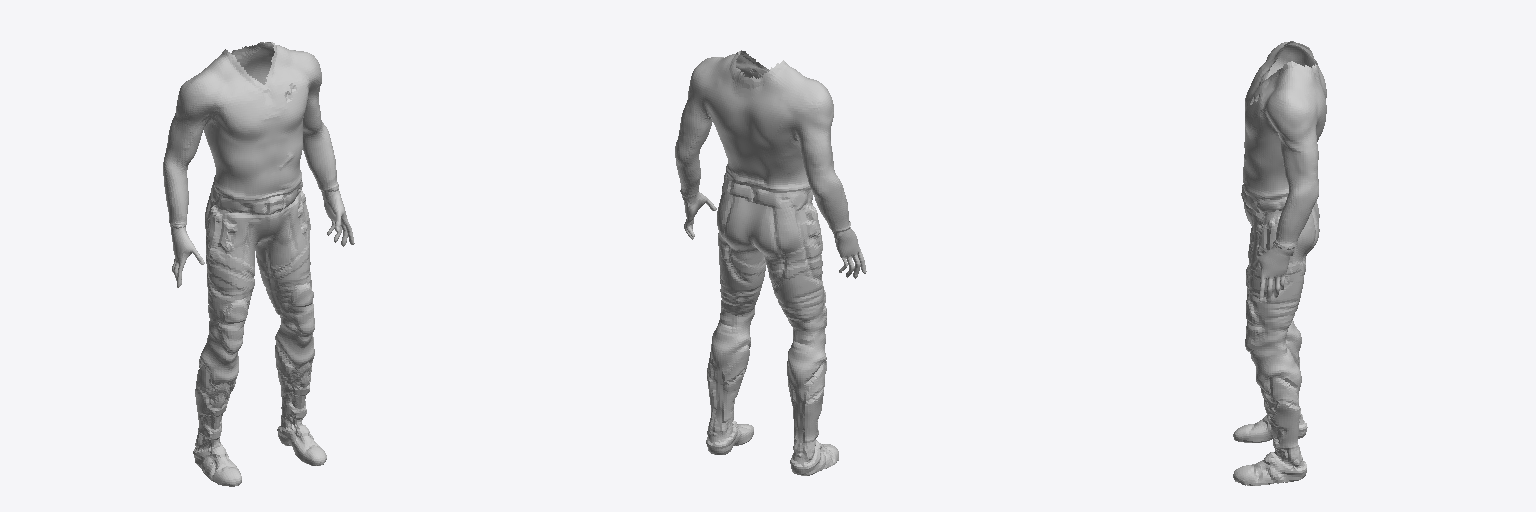
The model's file is Body.OBJ.
3 renders of one model, left to right at view 1: azimuth 30°, elevation 25°; view 2: azimuth 150°, elevation 25°; view 3: azimuth 270°, elevation 25°, orthographic.
Visible parts, largest first — view 1: Group11633, Group32424, Group20423, Group32536, Group22730; view 2: Group11633, Group32424, Group20423, Group32536, Group22730; view 3: Group11633, Group32424, Group20423, Group32536, Group22730.
Part boxes in pixels (left/top/right/bottom): Group11633: left=193, top=210, right=326, bottom=486; Group32424: left=190, top=47, right=315, bottom=244; Group20423: left=163, top=56, right=338, bottom=231; Group32536: left=192, top=42, right=311, bottom=89; Group22730: left=171, top=185, right=354, bottom=287; Group11633: left=706, top=227, right=838, bottom=475; Group32424: left=702, top=59, right=826, bottom=255; Group20423: left=675, top=61, right=850, bottom=242; Group32536: left=703, top=50, right=822, bottom=99; Group22730: left=682, top=192, right=866, bottom=278; Group11633: left=1233, top=227, right=1316, bottom=485; Group32424: left=1241, top=51, right=1326, bottom=253; Group20423: left=1267, top=45, right=1318, bottom=255; Group32536: left=1263, top=41, right=1317, bottom=99; Group22730: left=1250, top=240, right=1293, bottom=302.
Bounding box in the file's own units: 2.96 × 6.54 × 1.35.